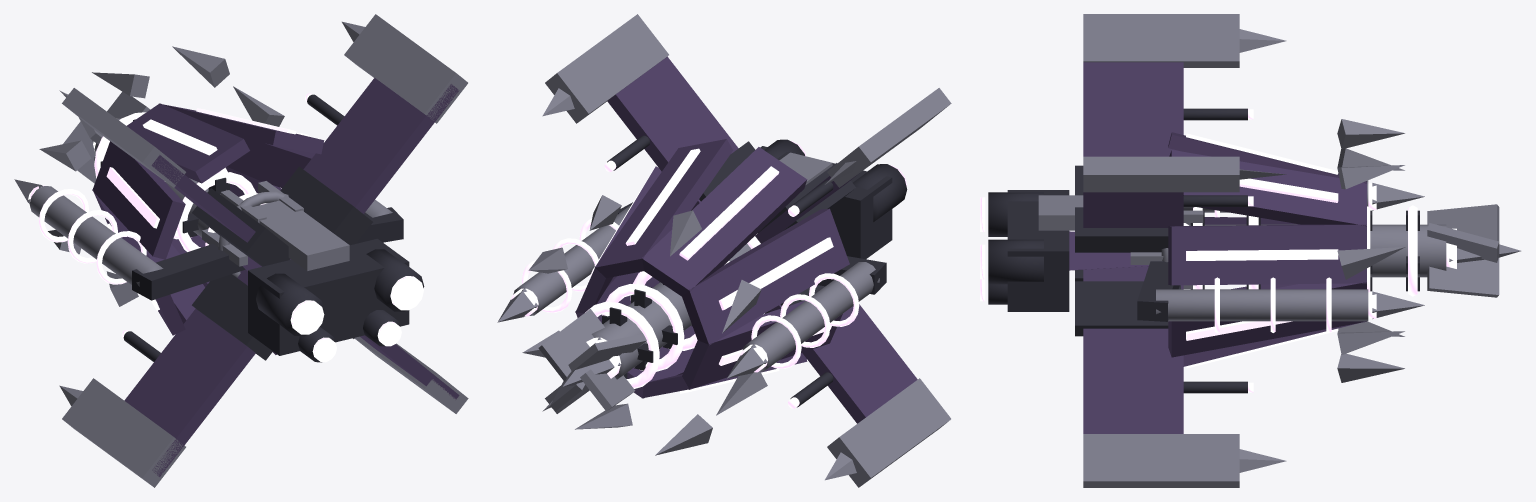
Rendered from boss-lancer.glb.
3 views of the same model, side by side, from view 1: azimuth 30°, elevation 25°; view 2: azimuth 150°, elevation 25°; view 3: azimuth 270°, elevation 25° (orthographic). The views are drawn at different scales.
Visible parts, largest first — view 1: 翼2, 翼0, 引擎座, 翼刃2, 翼刃0, 炮颚3, 炮颚2, 副炮管-1, 背脊, 副矛撑-1, 翼根舱0, 翼根舱2 (+34 smaller); view 2: 炮颚3, 炮颚2, 翼0, 翼2, 翼刃2, 炮颚1, 翼刃0, 副炮管-1, 引擎座, 炮颚4, 翼刃1, 副炮管1 (+39 smaller); view 3: 翼3, 炮颚0, 翼1, 翼刃3, 翼刃1, 副炮管1, 翼刃0, 炮颚1, 引擎座, 翼0, 炮颚7, 翼根舱3 (+30 smaller).
Part boxes in pixels (x1,y1,x2,y2): 翼2: (124, 269, 255, 476); 翼0: (303, 77, 459, 213); 引擎座: (248, 238, 409, 355); 翼刃2: (62, 378, 185, 487); 翼刃0: (344, 14, 467, 123); 炮颚3: (92, 141, 185, 259); 炮颚2: (127, 103, 249, 183); 副炮管-1: (29, 186, 163, 286); 背脊: (253, 200, 349, 270); 副矛撑-1: (132, 244, 245, 300); 翼根舱0: (280, 166, 372, 245); 翼根舱2: (192, 274, 272, 360); 炮颚3: (682, 208, 849, 345); 炮颚2: (641, 147, 807, 296); 翼0: (607, 56, 738, 209); 翼2: (770, 304, 917, 423); 翼刃2: (827, 378, 950, 487); 炮颚1: (594, 139, 732, 278); 翼刃0: (545, 14, 668, 123); 副炮管-1: (743, 262, 879, 371); 引擎座: (760, 146, 892, 259); 炮颚4: (682, 300, 842, 389); 翼刃1: (827, 88, 951, 187); 副炮管1: (513, 206, 630, 315); 翼3: (1083, 266, 1183, 433); 炮颚0: (1168, 224, 1366, 285); 翼1: (1083, 62, 1183, 156); 翼刃3: (1083, 434, 1239, 487); 翼刃1: (1083, 14, 1239, 67); 副炮管1: (1156, 289, 1368, 321); 翼刃0: (1083, 156, 1239, 192); 炮颚1: (1169, 150, 1366, 226); 引擎座: (1007, 190, 1069, 311); 翼0: (1083, 192, 1183, 227); 炮颚7: (1168, 281, 1366, 357); 翼根舱3: (1075, 281, 1180, 336).
Bounding box in the file's own units: 13.08 × 13.08 × 19.39.
